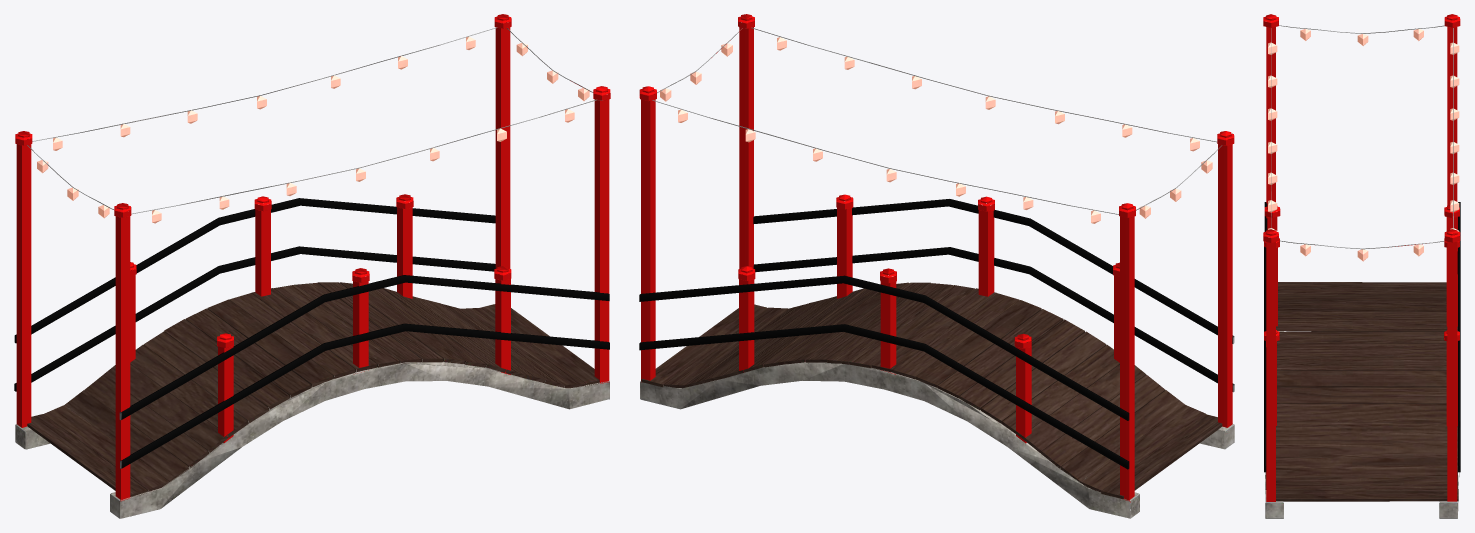
The model's file is NNJ0710002.fbx.
3 renders of one model, left to right at view 1: azimuth 30°, elevation 25°; view 2: azimuth 150°, elevation 25°; view 3: azimuth 270°, elevation 25°, orthographic. The views are drawn at different scales.
Visible parts, largest first — view 1: smNNJ0710002; view 2: smNNJ0710002; view 3: smNNJ0710002.
Boxes of the visible parts, bbox=[...] form: smNNJ0710002: bbox=[14, 14, 610, 518]; smNNJ0710002: bbox=[639, 14, 1234, 518]; smNNJ0710002: bbox=[1263, 14, 1460, 518].
Bounding box in the file's own units: 793 × 474 × 297.
1 material, 1 textured.
